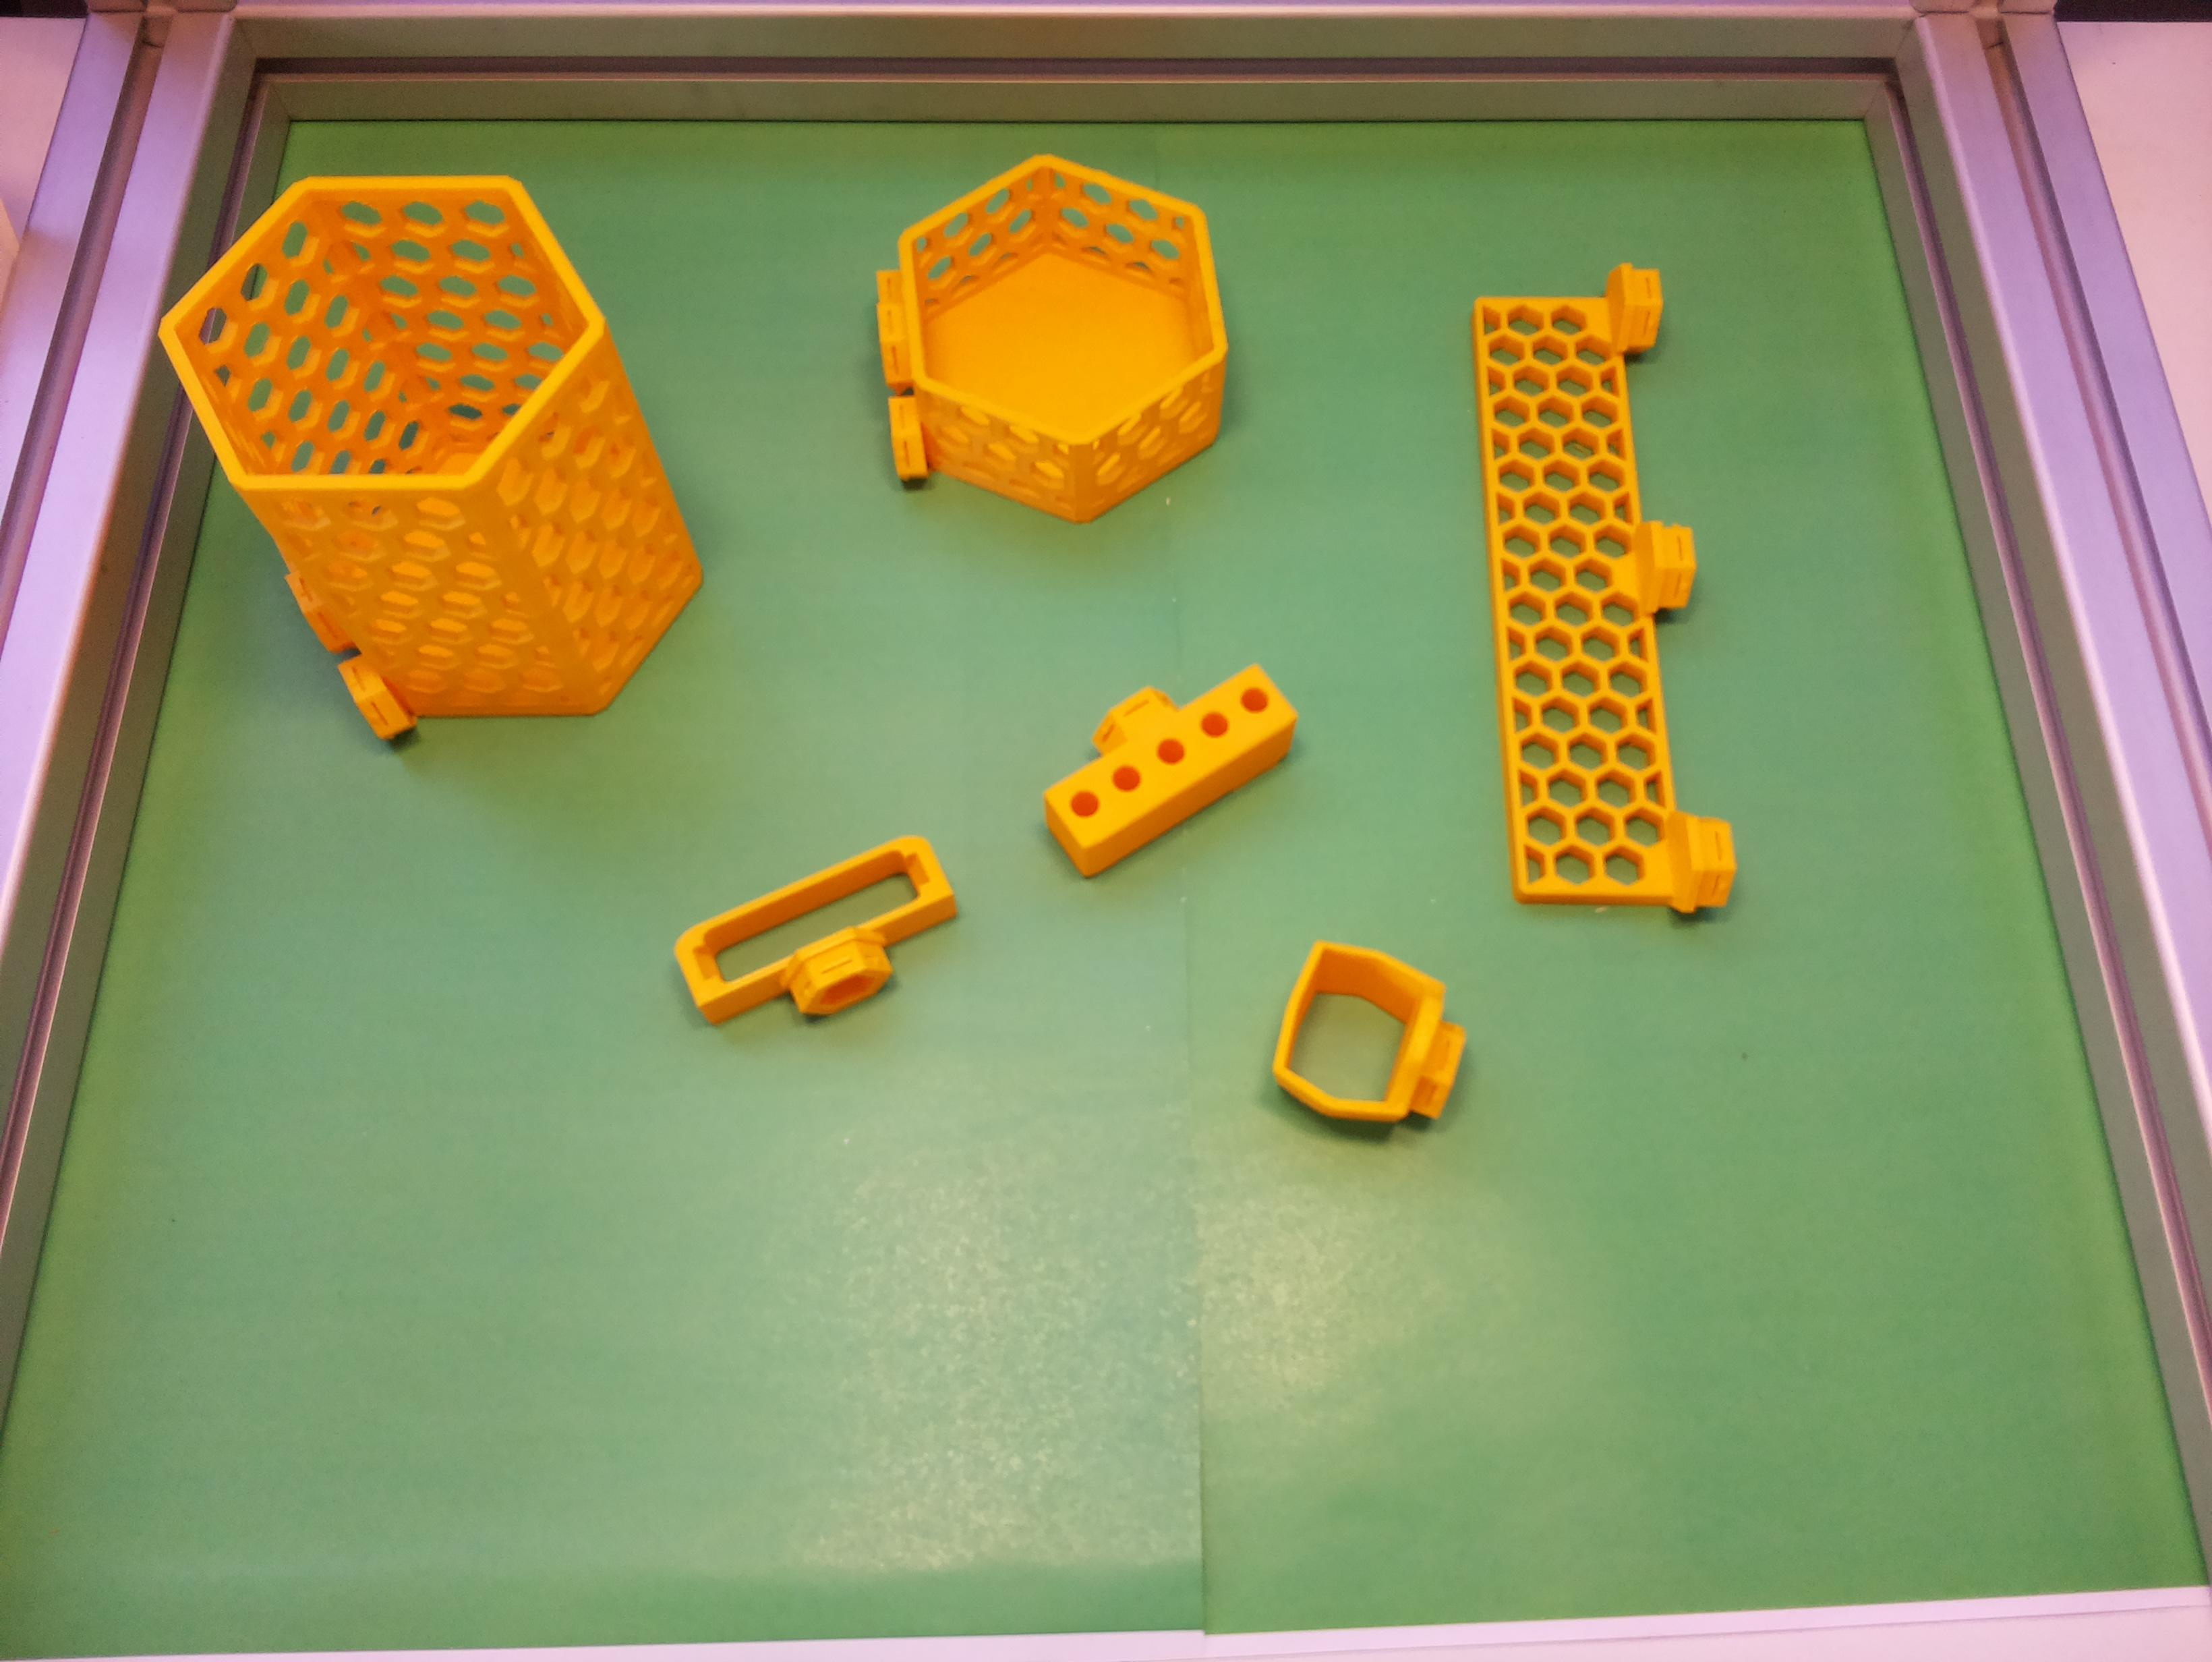bit_holder: (1014, 628, 1313, 882)
bottle_holder: (869, 147, 1236, 532)
cup_holder: (124, 87, 759, 812)
cutter_holder: (667, 826, 979, 1060)
scissor_holder: (1259, 931, 1484, 1150)
tool_holder: (1433, 260, 1742, 937)
